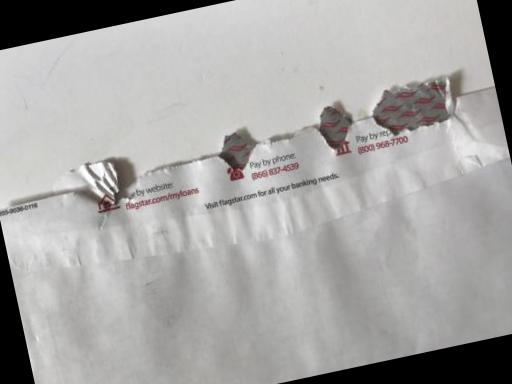Kertas: (0, 58, 512, 384)
